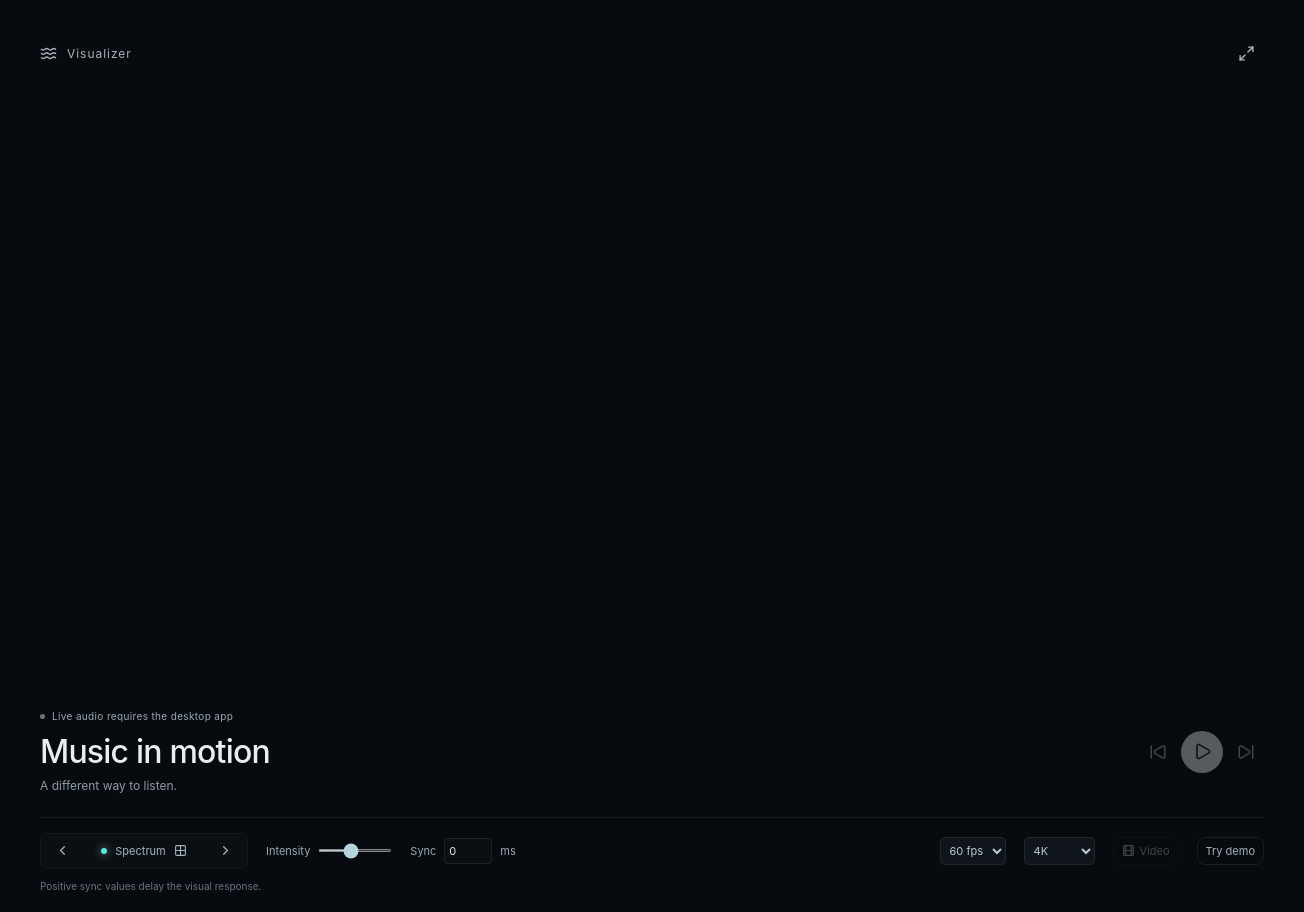
Test: Visualizer window › explains desktop audio and labels the optional demo
Click the button with aria-label "Start demo" at (1230, 851), box x1=1196 y1=836 x2=1264 y2=865
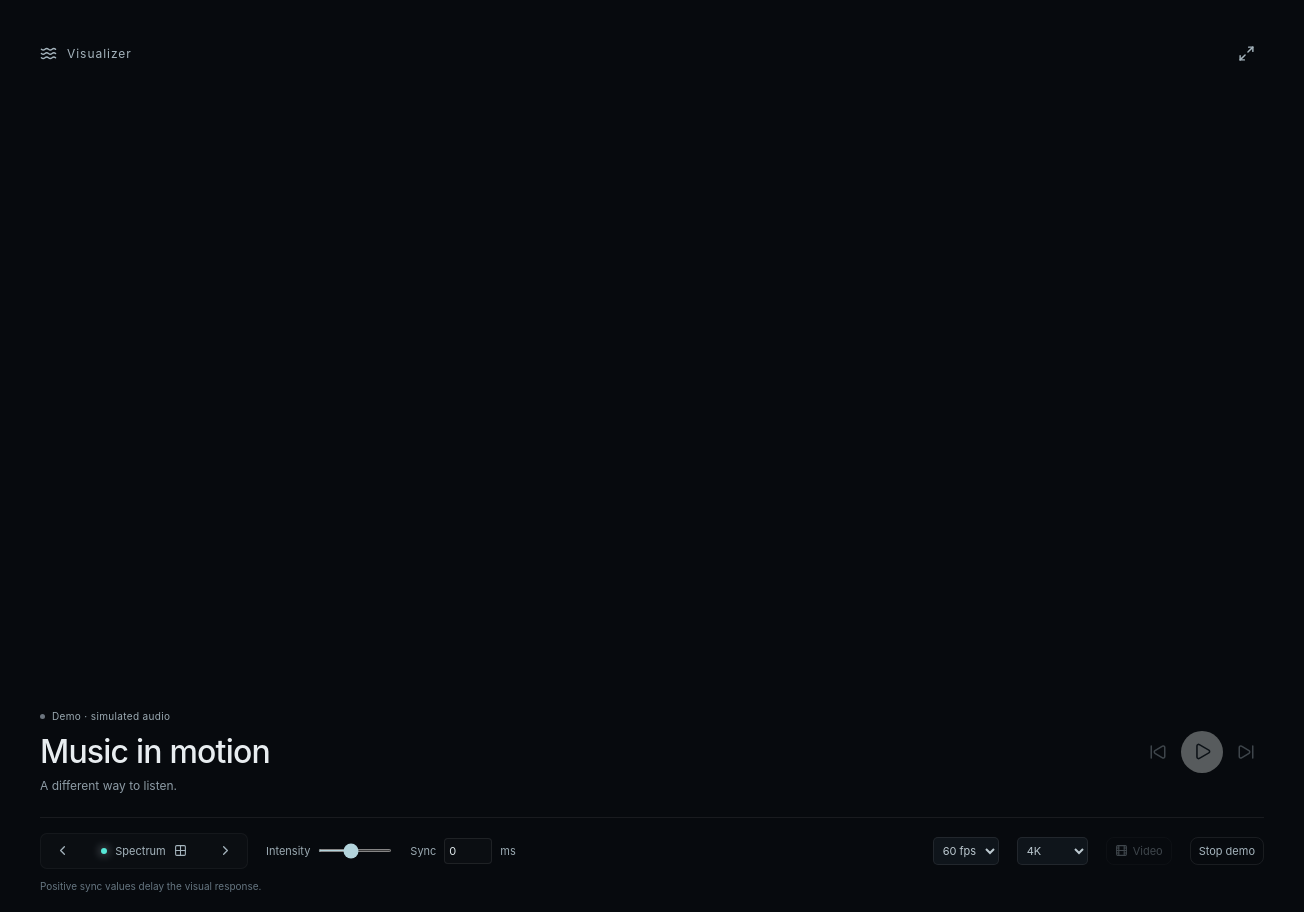
Expected: the text "Demo · simulated audio" is shown, x1=40 y1=710 x2=170 y2=722
